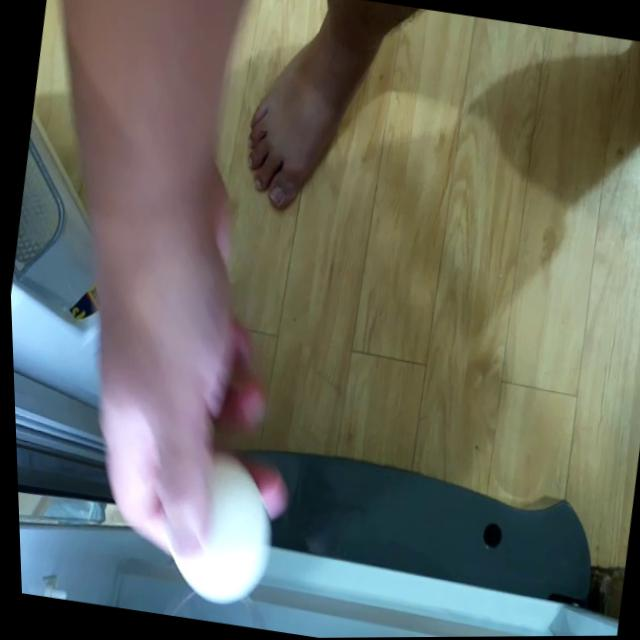egg: (155, 441, 285, 608)
